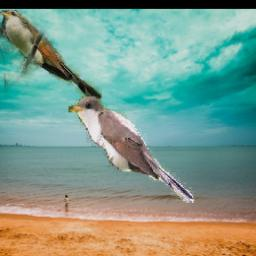Cuckoo: (69, 96, 194, 203), (0, 10, 101, 102)
